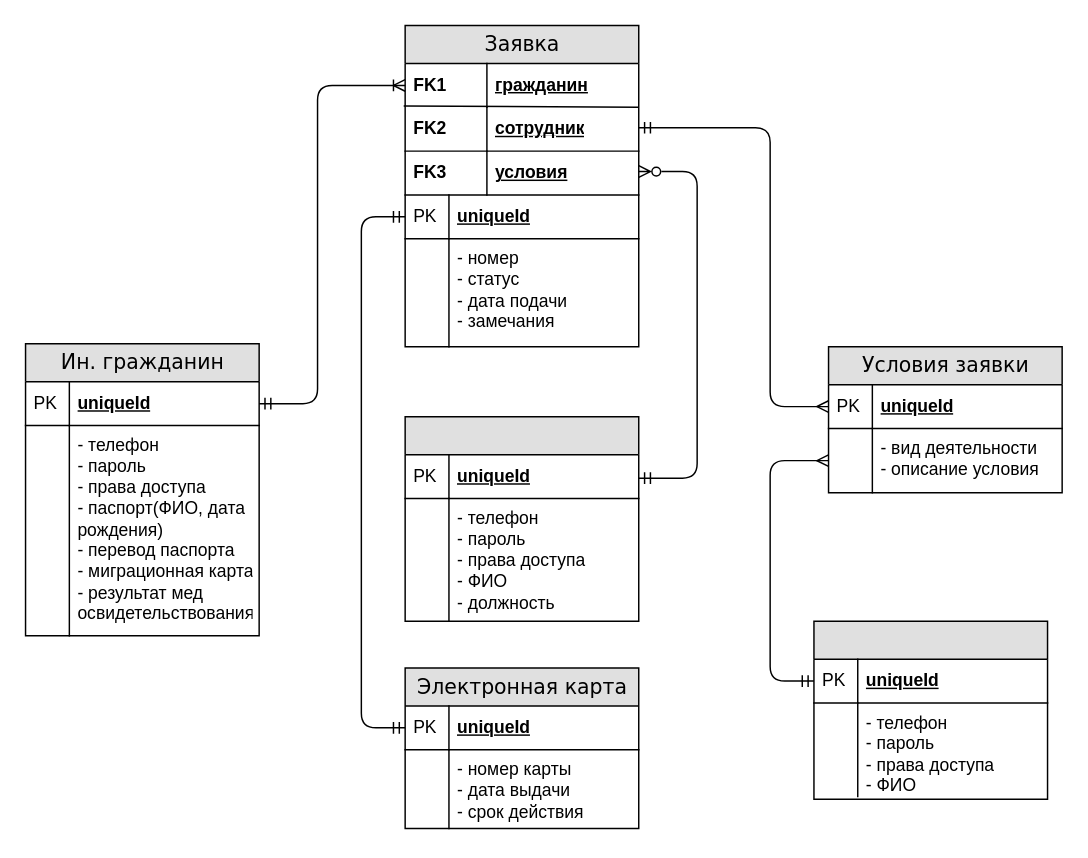
The diagram is 1088 pixels wide and 858 high, and some of its shapes have lost their labels. Each missing label, with the box of its shape:
Администратор: (812, 620, 1048, 799)
Сотрудник МВД: (404, 415, 639, 621)
